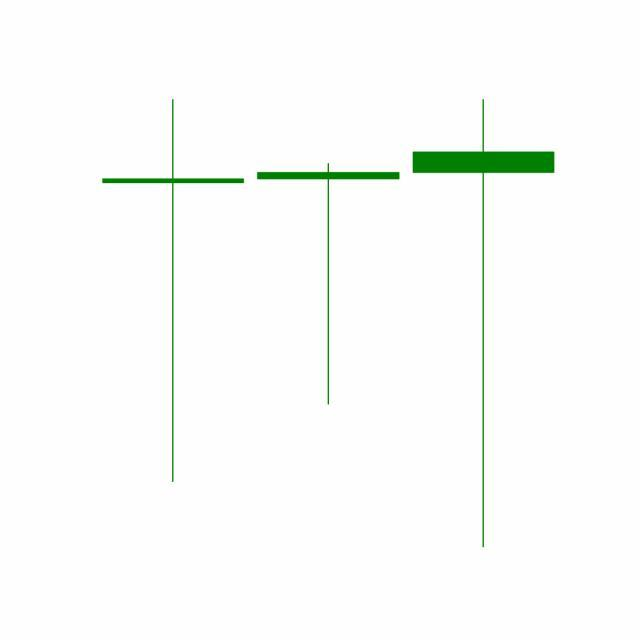Spinning Top: (250, 162, 407, 409)
